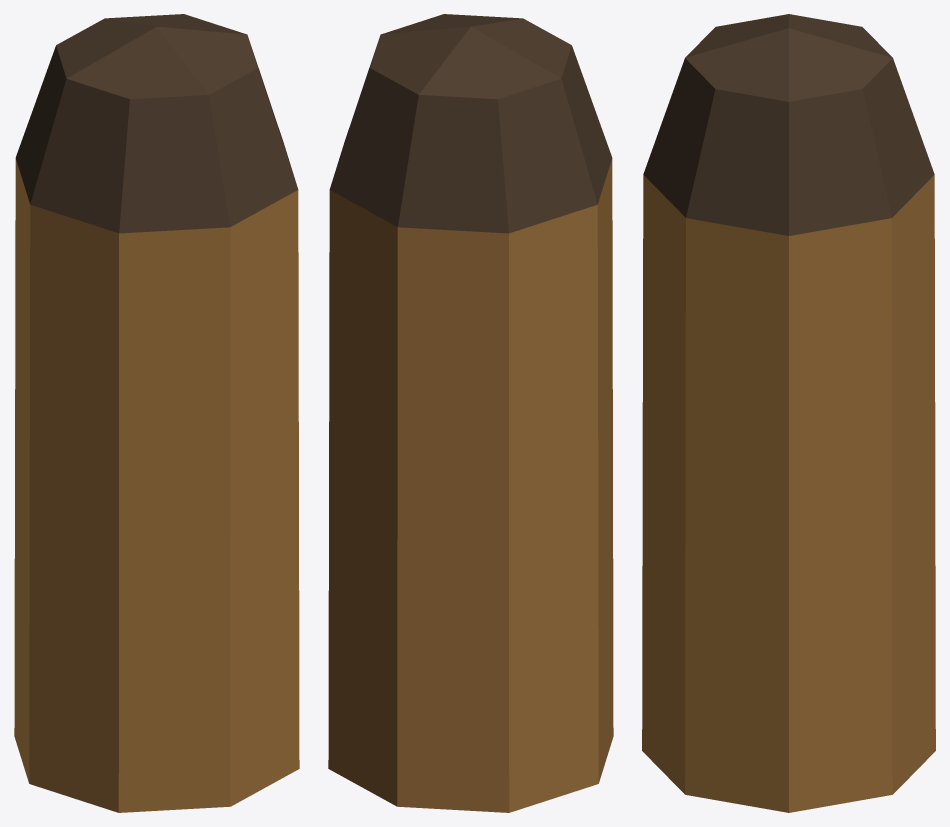
File: pistol-bullet.fbx
3 renders of one model, left to right at view 1: azimuth 30°, elevation 25°; view 2: azimuth 150°, elevation 25°; view 3: azimuth 270°, elevation 25°, orthographic.
Visible parts, largest first — view 1: pistol-bullet; view 2: pistol-bullet; view 3: pistol-bullet.
Part boxes in pixels (x1,y1,x2,y2): pistol-bullet: (14, 14, 299, 812); pistol-bullet: (328, 14, 613, 812); pistol-bullet: (642, 14, 935, 812).
Bounding box in the file's own units: 0.0184 × 0.05 × 0.0184.
